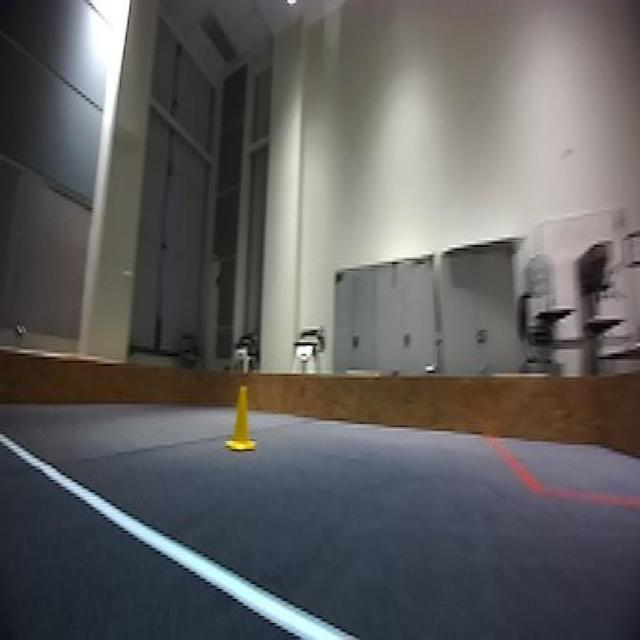frc_cone: (227, 379, 261, 458)
